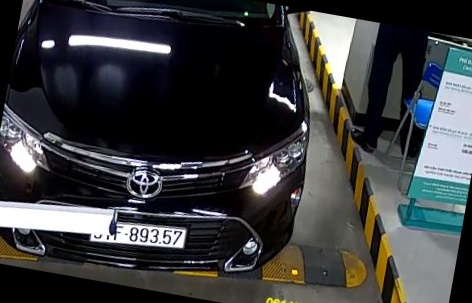plate: (93, 215, 189, 252)
